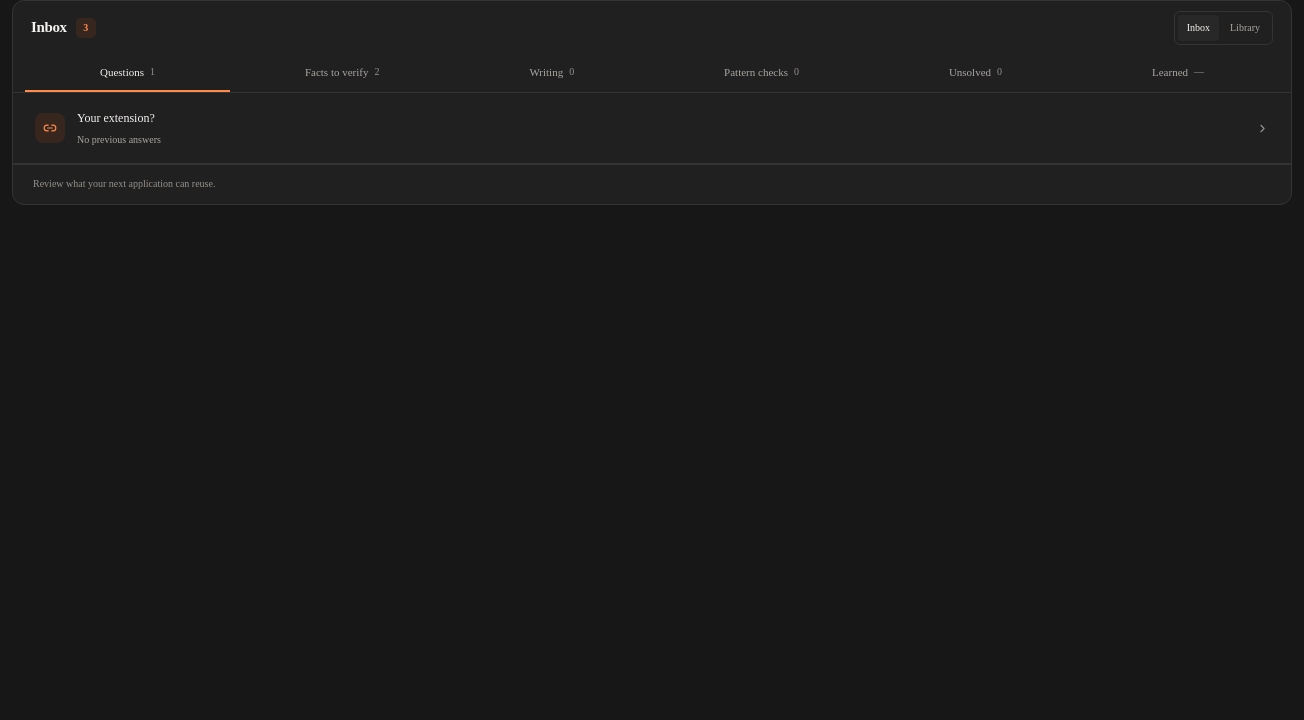
Test: invalid JSON stays in the fact editor and an empty list saves as a list
Later steps or results of the test are not shown.
Step 1. Click the button "Facts to verify 2" → (342, 74), box x1=230 y1=55 x2=454 y2=92
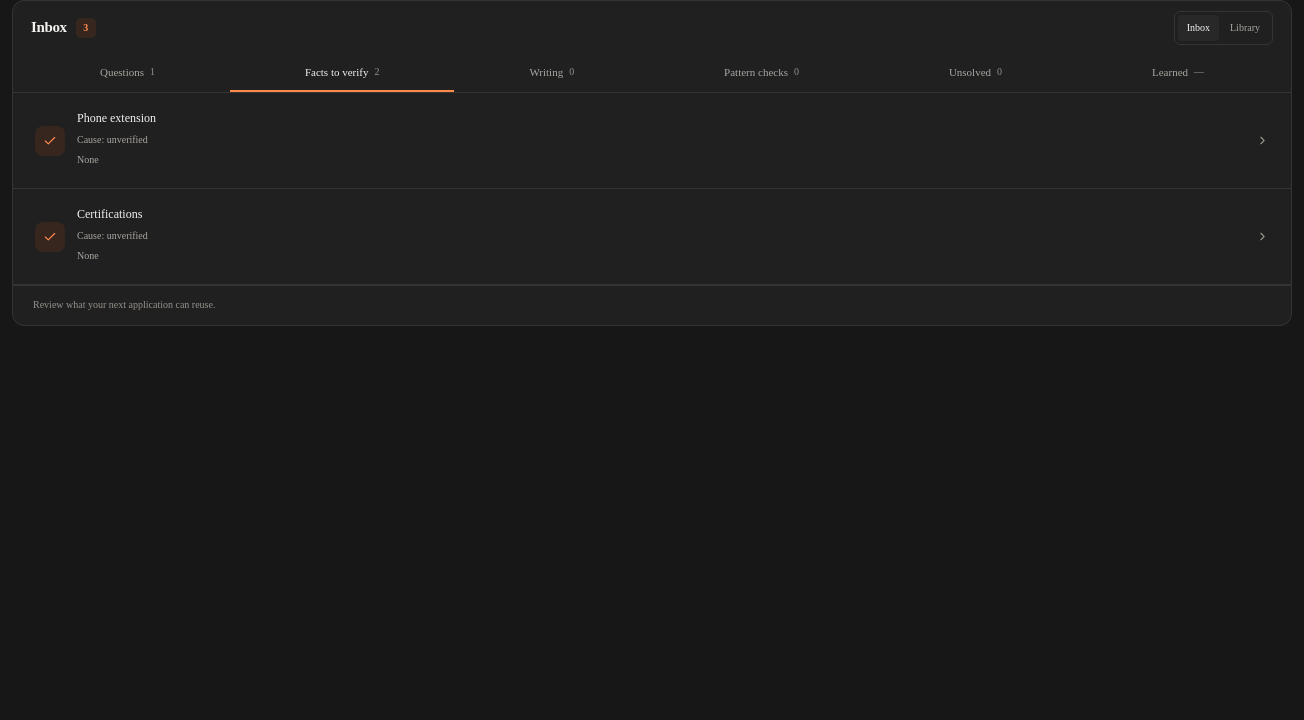
Step 2. Click the button with aria-label "Review Certifications" → (110, 214), box x1=13 y1=189 x2=1291 y2=285
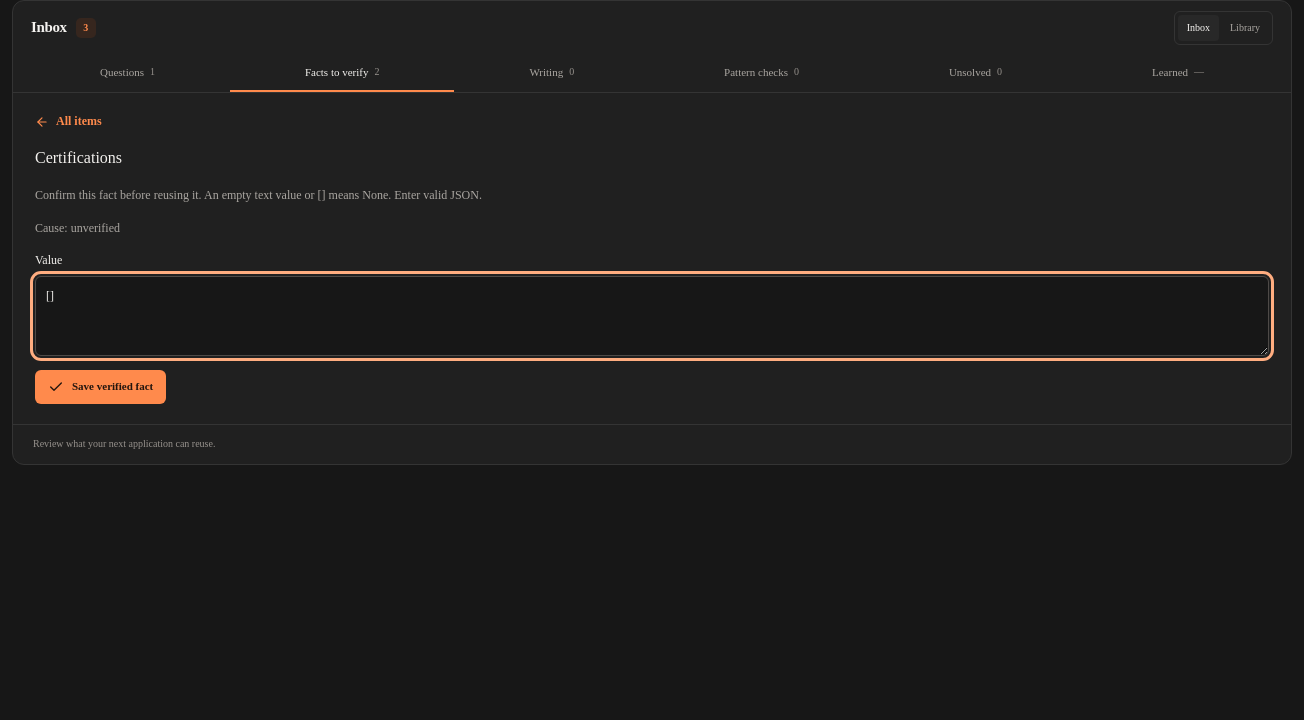
Step 3. Replace the text in the text box labelled "Value" with "not a list" → (652, 316), box x1=35 y1=276 x2=1269 y2=356
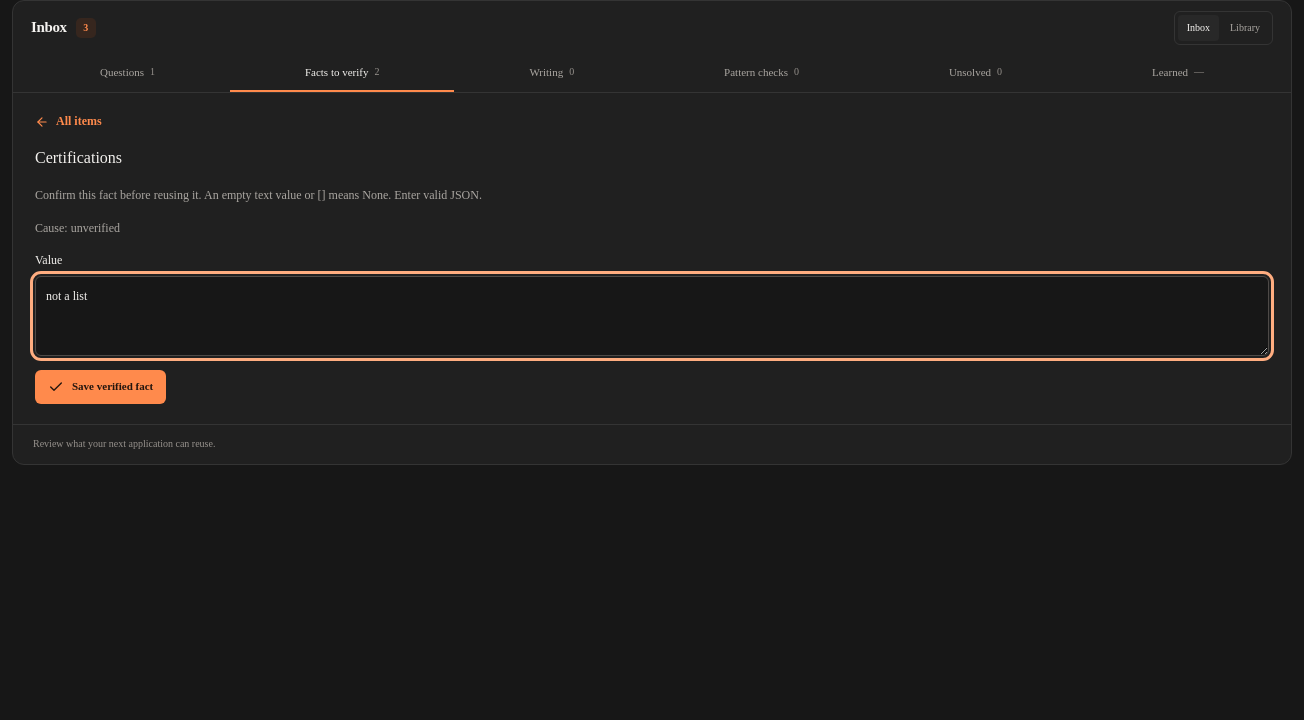
Step 4. Click the button "Save verified fact" → (101, 387), box x1=35 y1=370 x2=166 y2=404
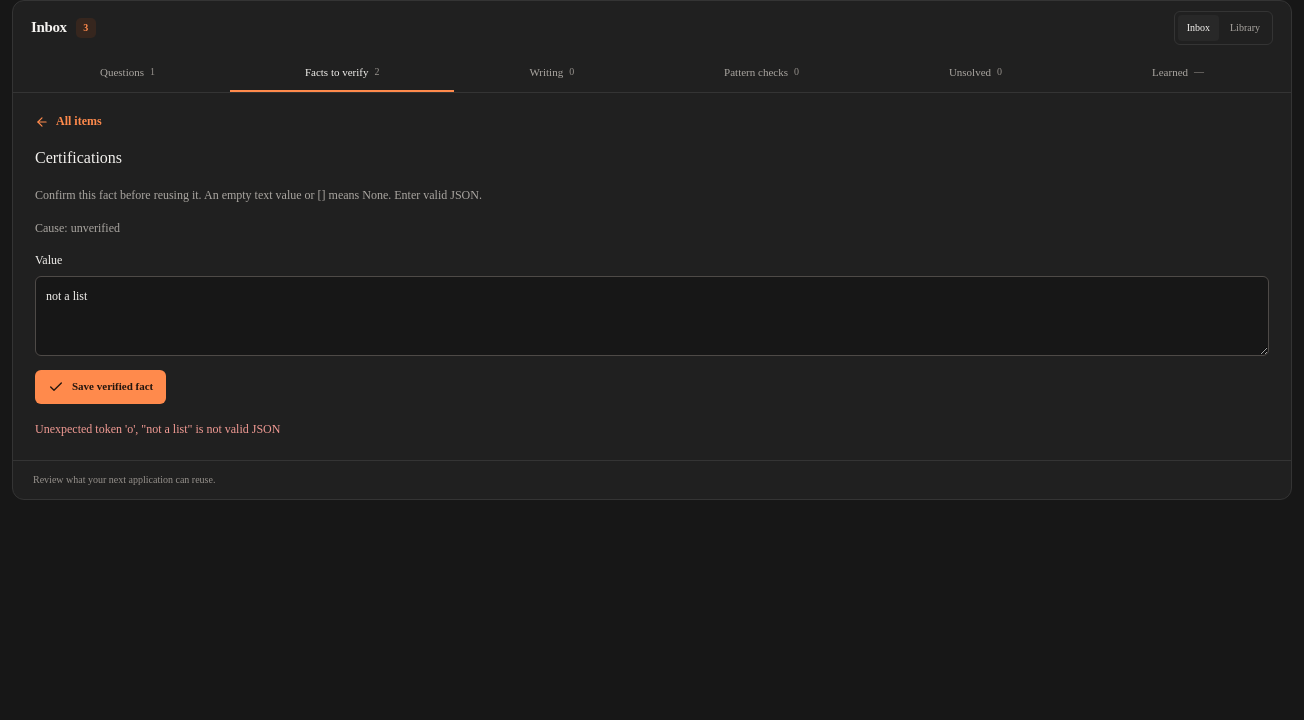
Check: the message "Unexpected token 'o', \"not a list\" is not valid JSON" is shown, box x1=35 y1=422 x2=280 y2=436
